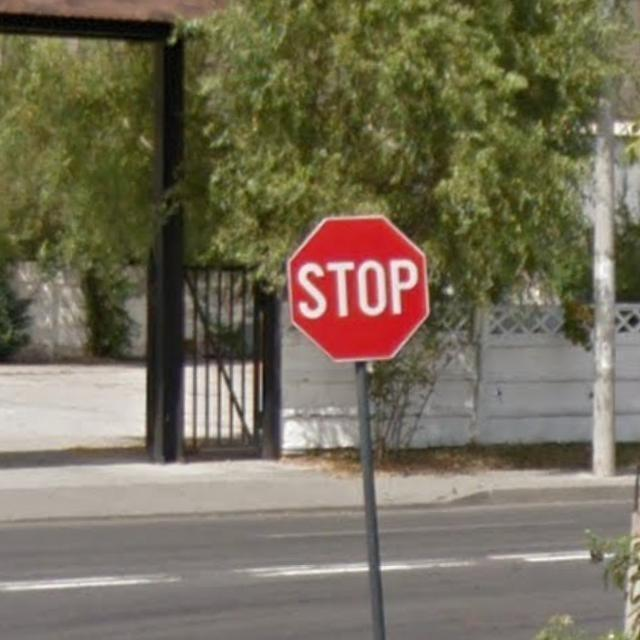prio_stop: (288, 215, 428, 361)
